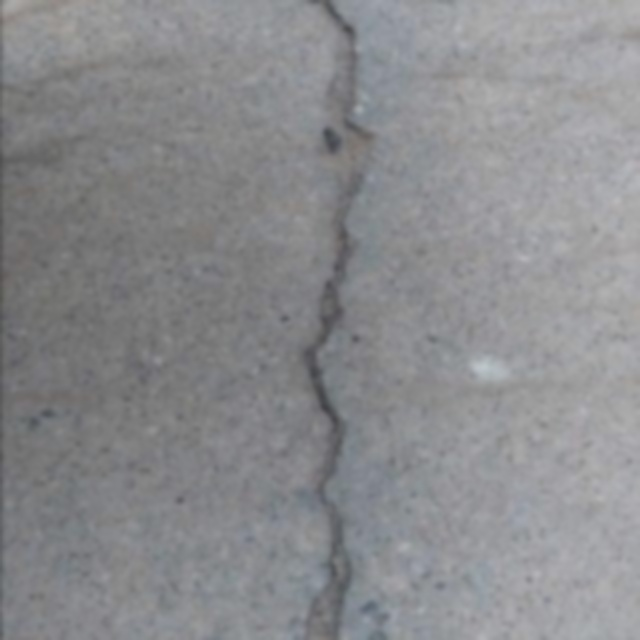SurfaceCrack: (264, 2, 406, 640)
